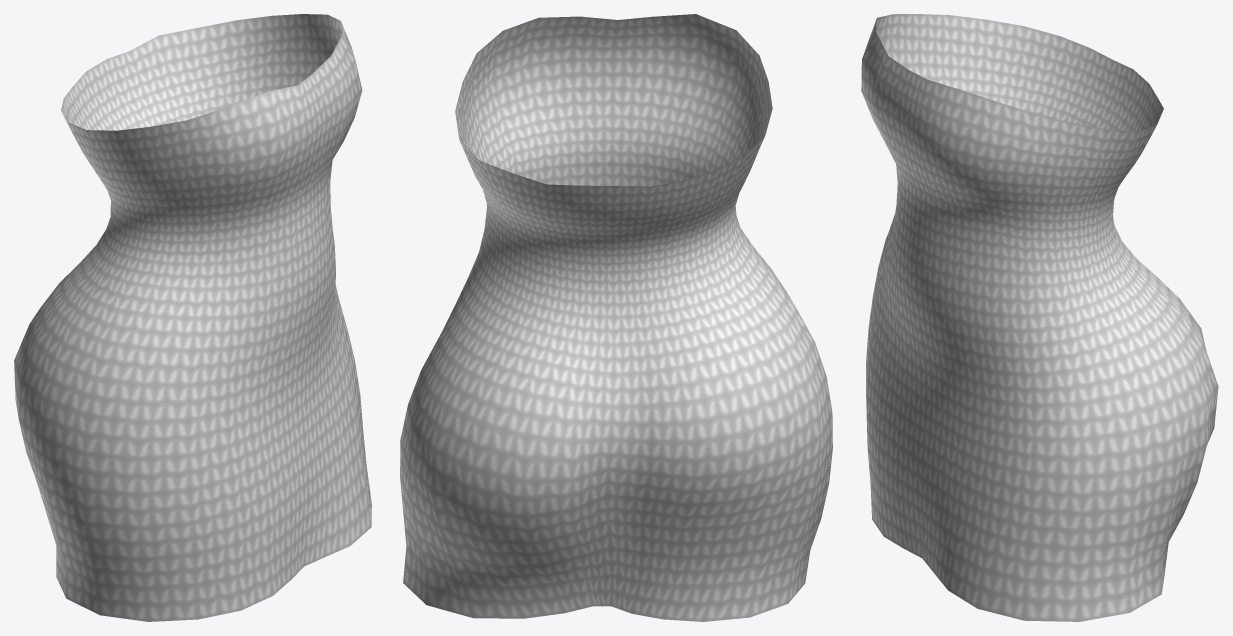
The model's file is clothTEXtest.fbx.
3 renders of one model, left to right at view 1: azimuth 30°, elevation 25°; view 2: azimuth 150°, elevation 25°; view 3: azimuth 270°, elevation 25°, orthographic. The views are drawn at different scales.
Parts seen in each view (by area): view 1: MASH3_ReproMesh1; view 2: MASH3_ReproMesh1; view 3: MASH3_ReproMesh1.
Boxes of the visible parts, box(x1,y1,x2,y2) form: MASH3_ReproMesh1: box(14, 14, 371, 621); MASH3_ReproMesh1: box(400, 14, 832, 621); MASH3_ReproMesh1: box(861, 14, 1218, 621).
Bounding box in the file's own units: 8.67 × 11.9 × 7.65.
Materials: 1 (1 with a texture image).
